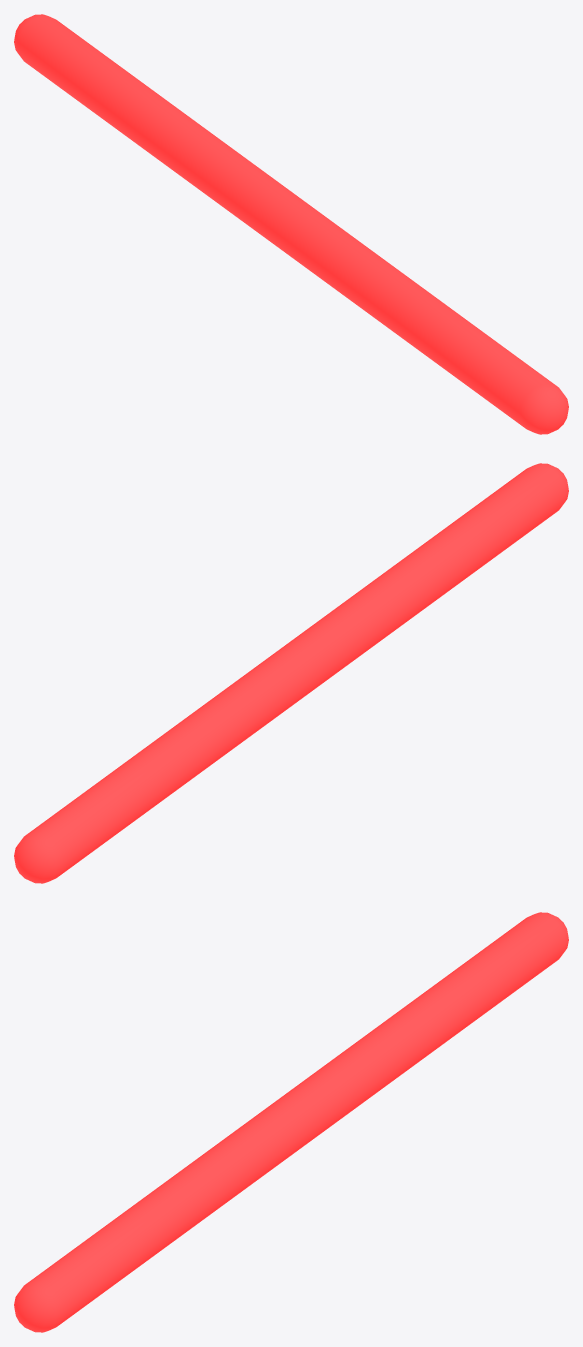
Rendered from FireBullet.fbx.
3 renders of one model, top to bottom at view 1: azimuth 30°, elevation 25°; view 2: azimuth 150°, elevation 25°; view 3: azimuth 330°, elevation 25°, orthographic.
Visible parts, largest first — view 1: 胶囊; view 2: 胶囊; view 3: 胶囊.
Boxes of the visible parts, x1,y1,x2,y2 form: 胶囊: (14, 14, 568, 434); 胶囊: (14, 463, 568, 883); 胶囊: (14, 912, 568, 1332).
Bounding box in the file's own units: 10 × 10 × 200.
